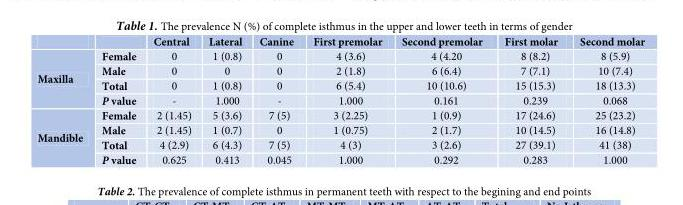table: (36, 36, 644, 165)
table column: (391, 36, 492, 165), (302, 36, 391, 165), (492, 36, 568, 165), (568, 36, 644, 165), (36, 36, 91, 165), (144, 36, 199, 165), (91, 36, 144, 165), (250, 36, 302, 165), (199, 36, 250, 165)
table column header: (36, 36, 644, 49)
table row: (36, 63, 644, 78), (36, 78, 644, 93), (36, 93, 644, 108), (36, 108, 644, 123), (36, 137, 644, 152), (36, 49, 644, 63), (36, 123, 644, 137), (36, 36, 644, 49), (36, 152, 644, 165)
table spanning cell: (36, 49, 91, 108), (36, 108, 91, 165)
